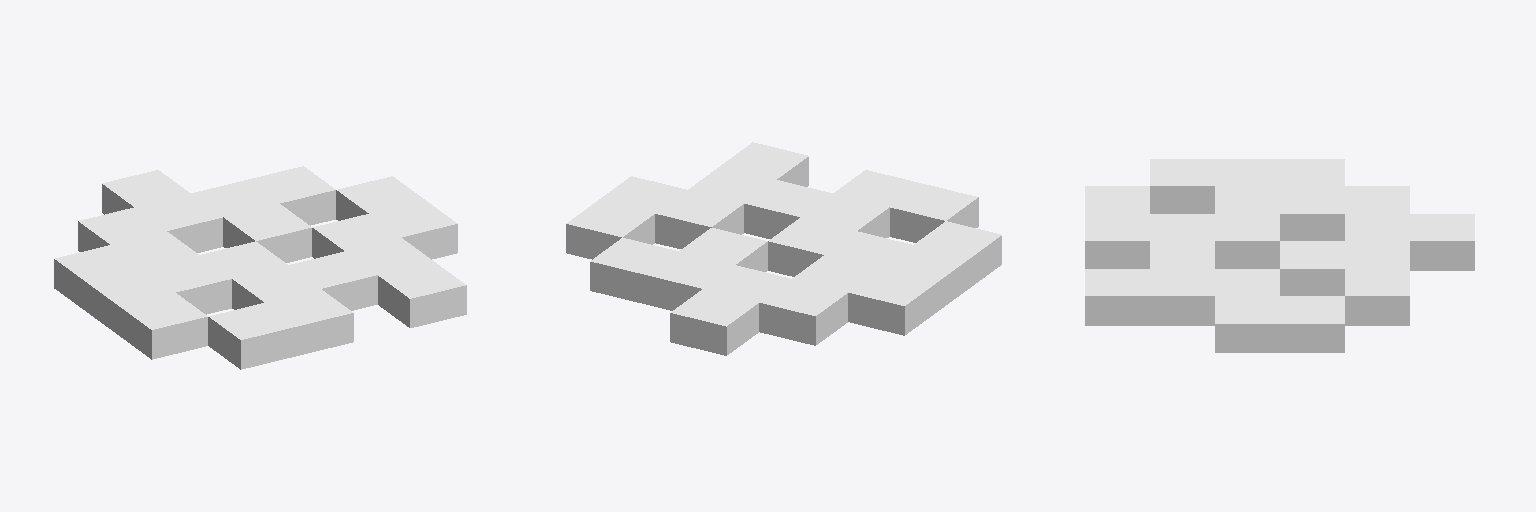
Rendered from 0-0-pop-01.obj.
The picture shows the model from 3 angles: view 1: azimuth 30°, elevation 25°; view 2: azimuth 150°, elevation 25°; view 3: azimuth 270°, elevation 25°; orthographic projection.
Parts seen in each view (by area): view 1: pop-01; view 2: pop-01; view 3: pop-01.
Part boxes in pixels (x1,y1,x2,y2): pop-01: (54,166,466,369); pop-01: (566,142,1001,355); pop-01: (1085,159,1474,352).
Bounding box in the file's own units: 2.4 × 0.2 × 2.4.